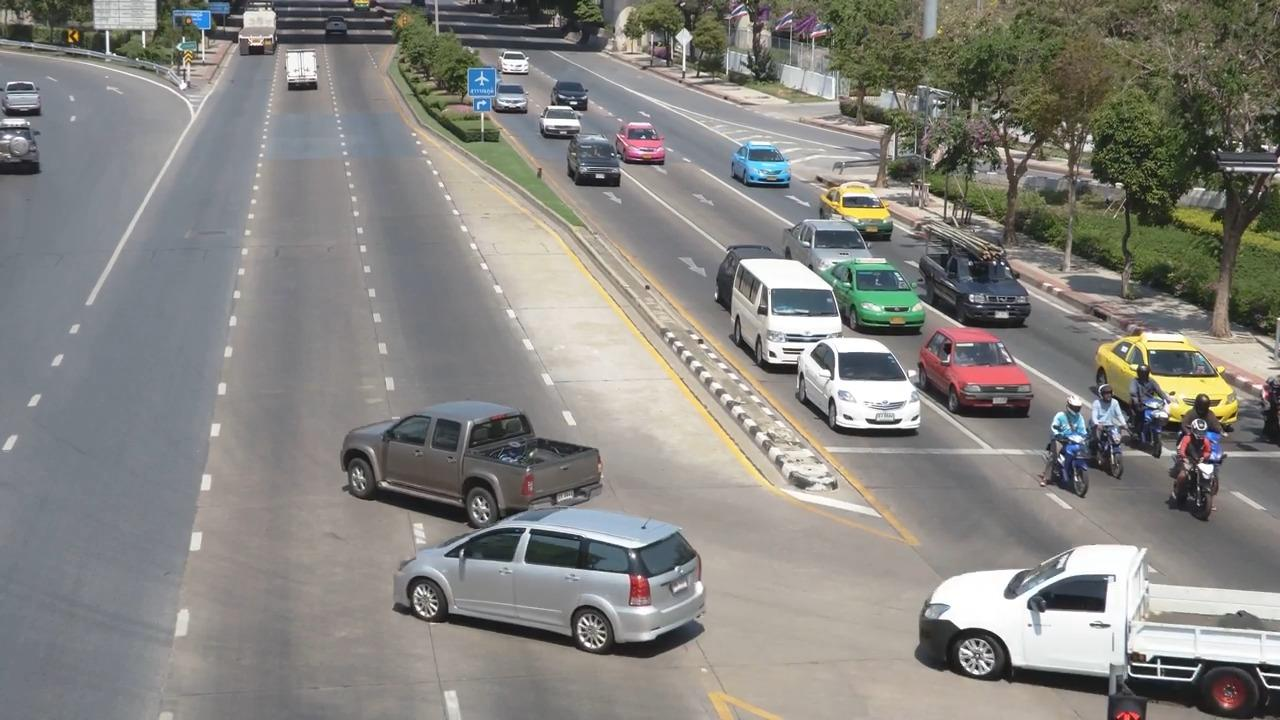CAR: (910, 515, 1280, 720), (383, 495, 744, 661), (325, 374, 601, 519), (1087, 317, 1255, 434), (793, 331, 931, 438), (734, 252, 848, 372), (921, 226, 1041, 334), (921, 321, 1031, 420), (825, 252, 926, 329), (780, 204, 869, 277), (817, 179, 898, 241), (722, 135, 797, 199), (0, 114, 61, 191), (270, 46, 333, 111), (564, 132, 621, 189), (1, 82, 57, 137), (613, 118, 674, 162), (492, 42, 540, 83), (534, 102, 582, 139), (550, 71, 597, 108), (495, 81, 532, 114)
HGV_BUS: (228, 2, 288, 70)
MOTOR: (1156, 414, 1231, 516), (1036, 392, 1097, 491), (1122, 365, 1170, 455), (1082, 376, 1128, 466)
